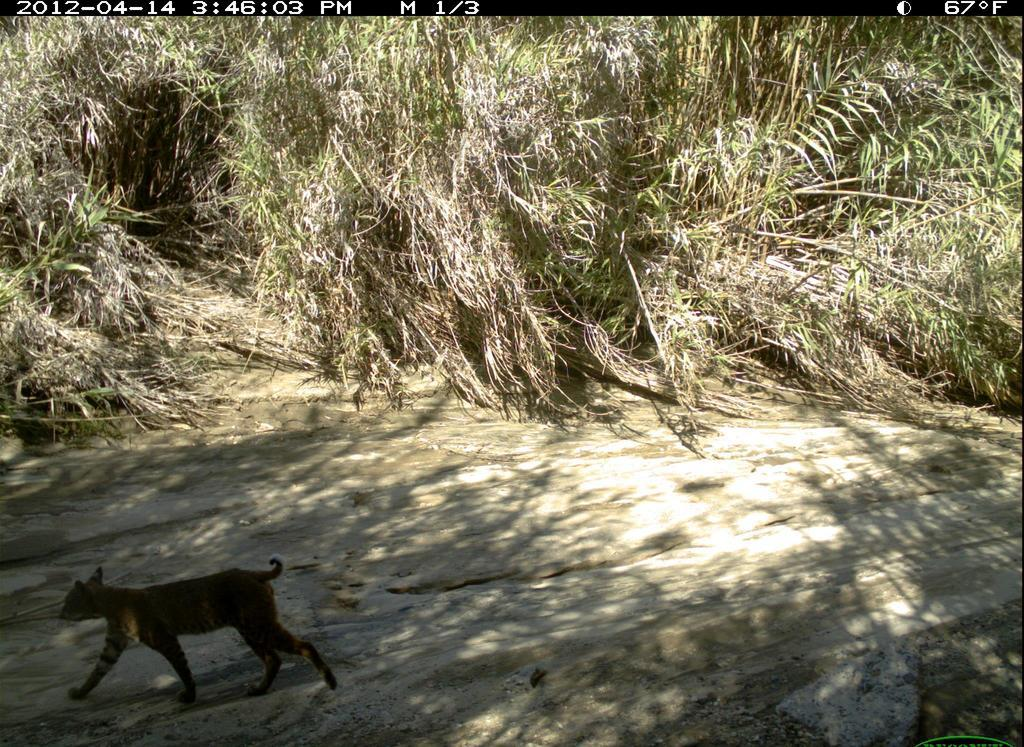bobcat: (56, 550, 345, 711)
